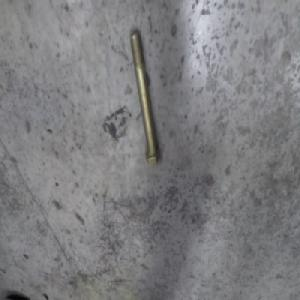Bolt: (128, 36, 162, 172)
